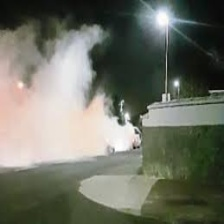smoke: (5, 19, 132, 155)
